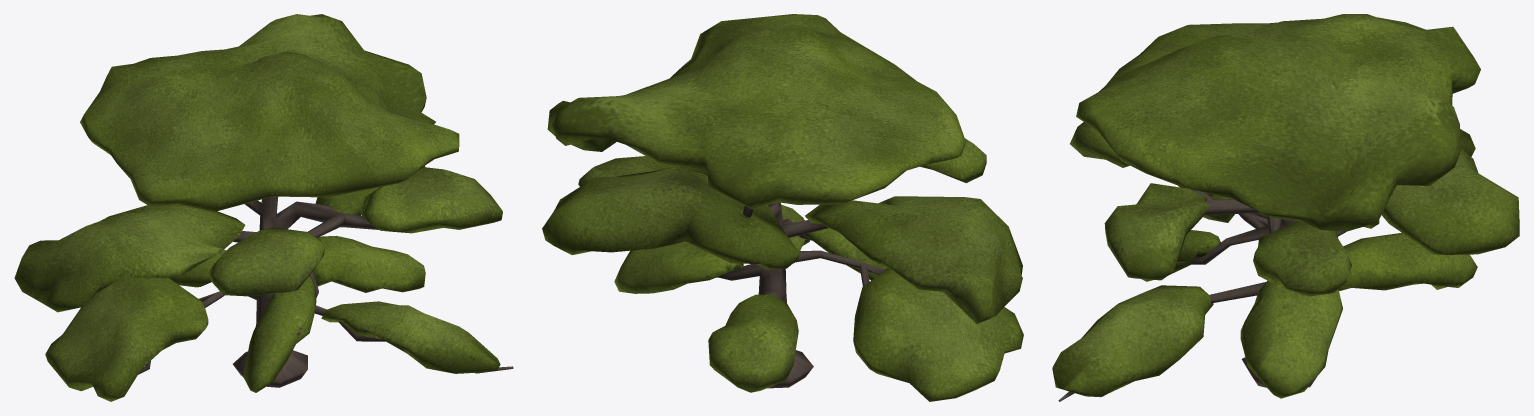
File: Tree-Cedar-GB.fbx
3 views of the same model, side by side, from view 1: azimuth 30°, elevation 25°; view 2: azimuth 150°, elevation 25°; view 3: azimuth 270°, elevation 25° (orthographic). The views are drawn at different scales.
Parts seen in each view (by area): view 1: CedarTree_Mesh; view 2: CedarTree_Mesh; view 3: CedarTree_Mesh.
Boxes of the visible parts, x1=… form: CedarTree_Mesh: x1=14, y1=14, x2=513, y2=401; CedarTree_Mesh: x1=542, y1=14, x2=1023, y2=401; CedarTree_Mesh: x1=1052, y1=14, x2=1519, y2=401.
Size of the model in its own units: 1249 by 900 by 1105.
1 material, 1 textured.
